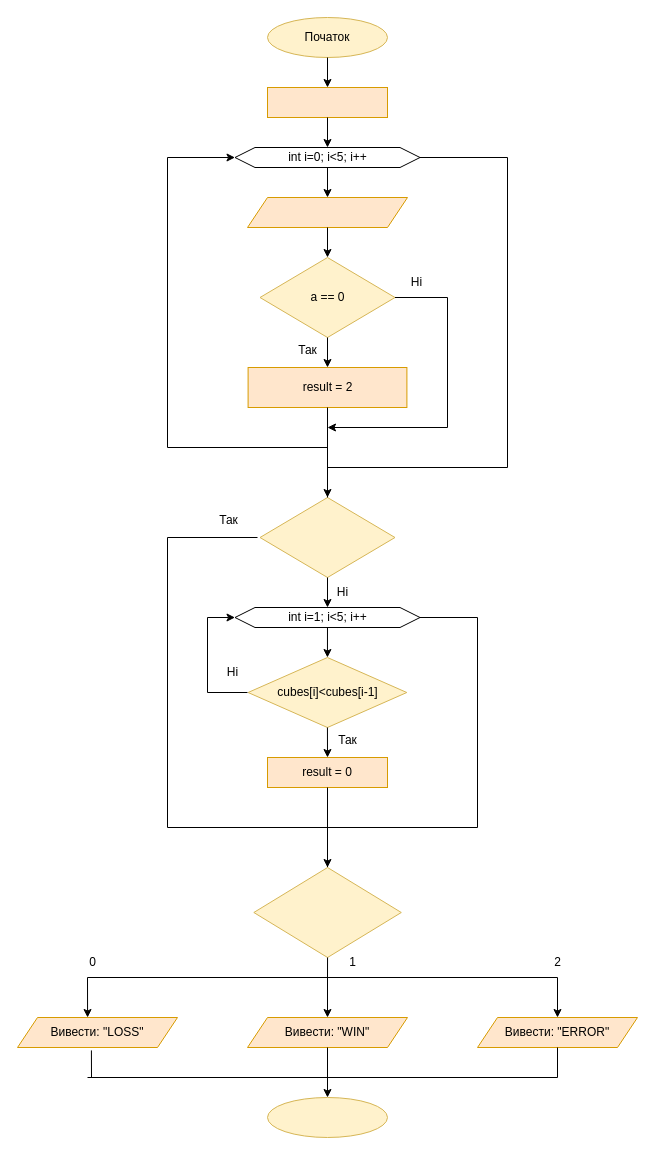
Image size: 655x1155. Some labels were removed from this diagram. The centre of each missing label's shape, as x and y in pixels:
"result == 2" belongs at [327,537].
"result=1" belongs at [327,102].
"Введення: а" belongs at [327,212].
"Кінець" belongs at [327,1117].
"Чому дорівнює result" belongs at [327,912].
